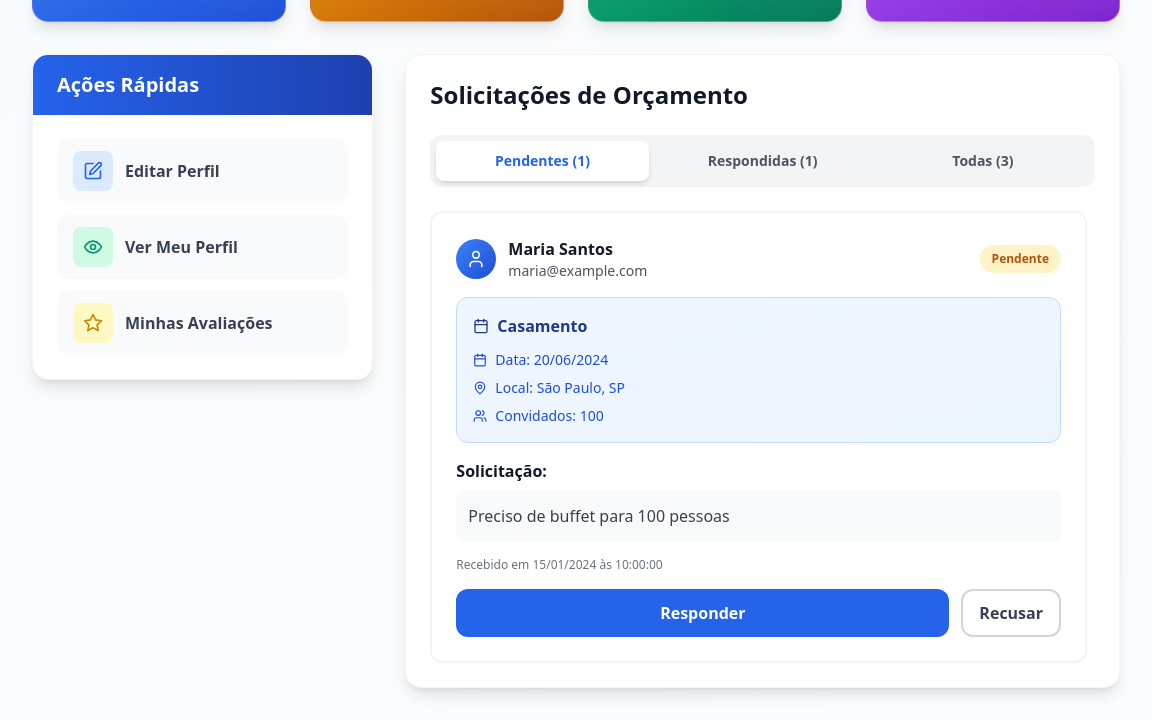
Test: SupplierDashboard › Response Modal › should open modal when respond button is clicked
(page scrolled)
Click the button "Responder". click: point(703, 613)
box: left=456, top=589, right=949, bottom=637
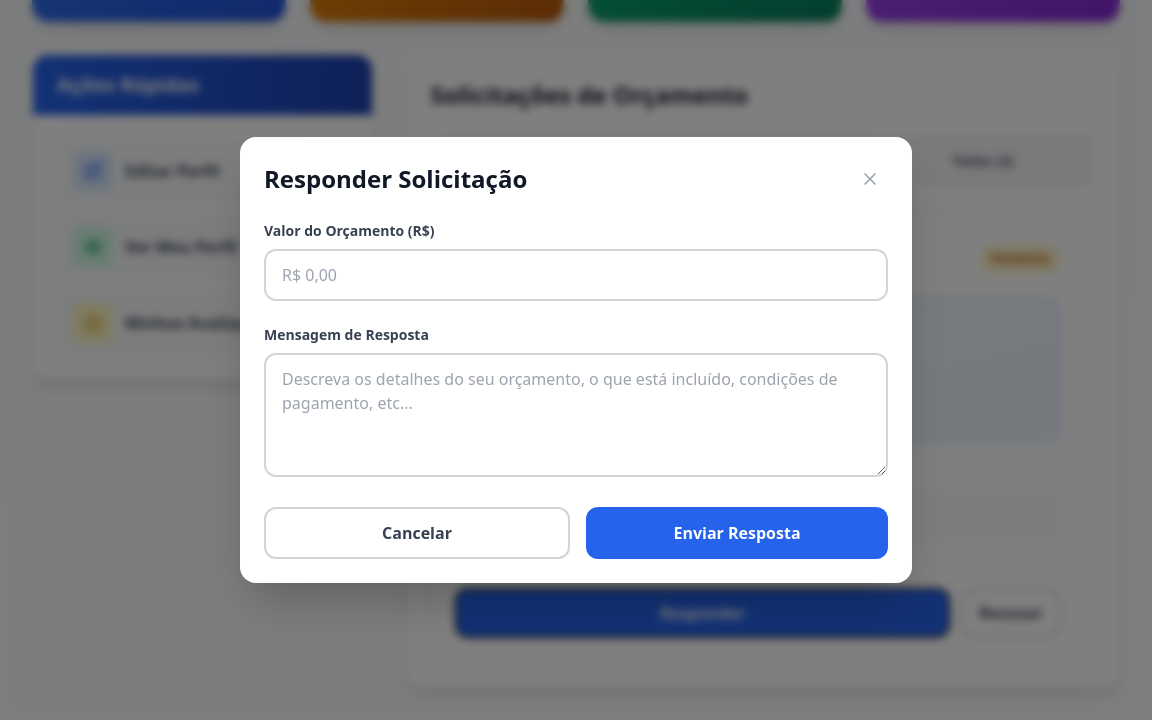
Check: the heading "Responder Solicitação" is shown, box left=264, top=163, right=527, bottom=195
